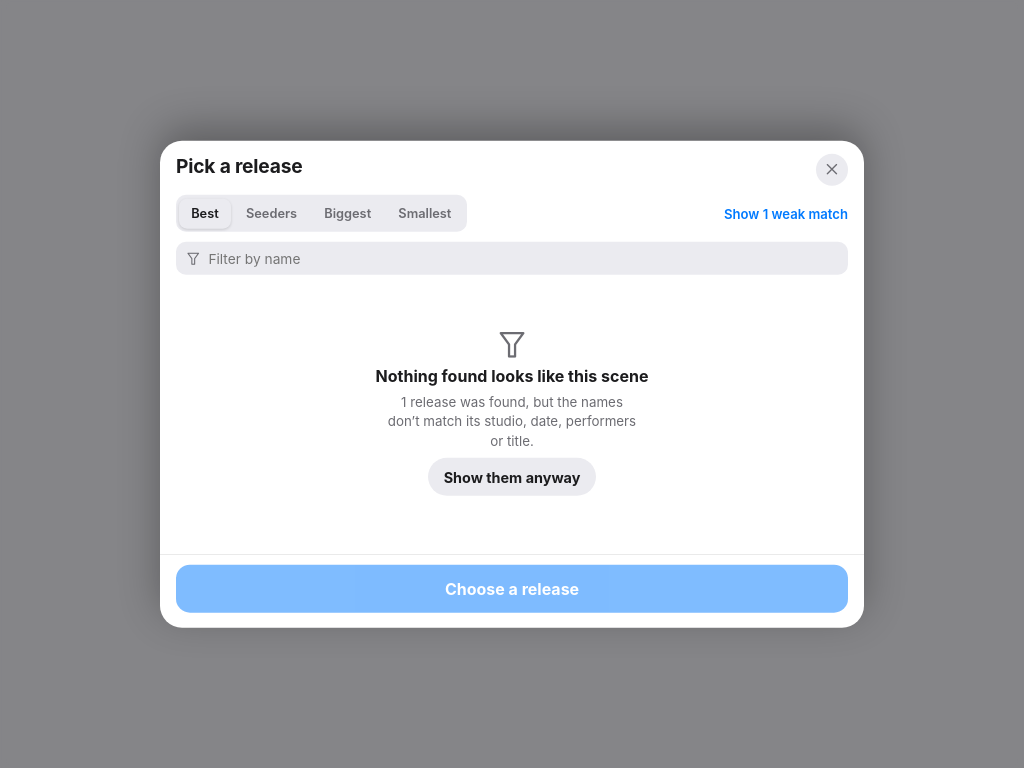
Test case: ReleasePickerComponent › says when every release looks like another scene
Click the button "Show them anyway".
click(512, 477)  # box 428,458 -> 596,496
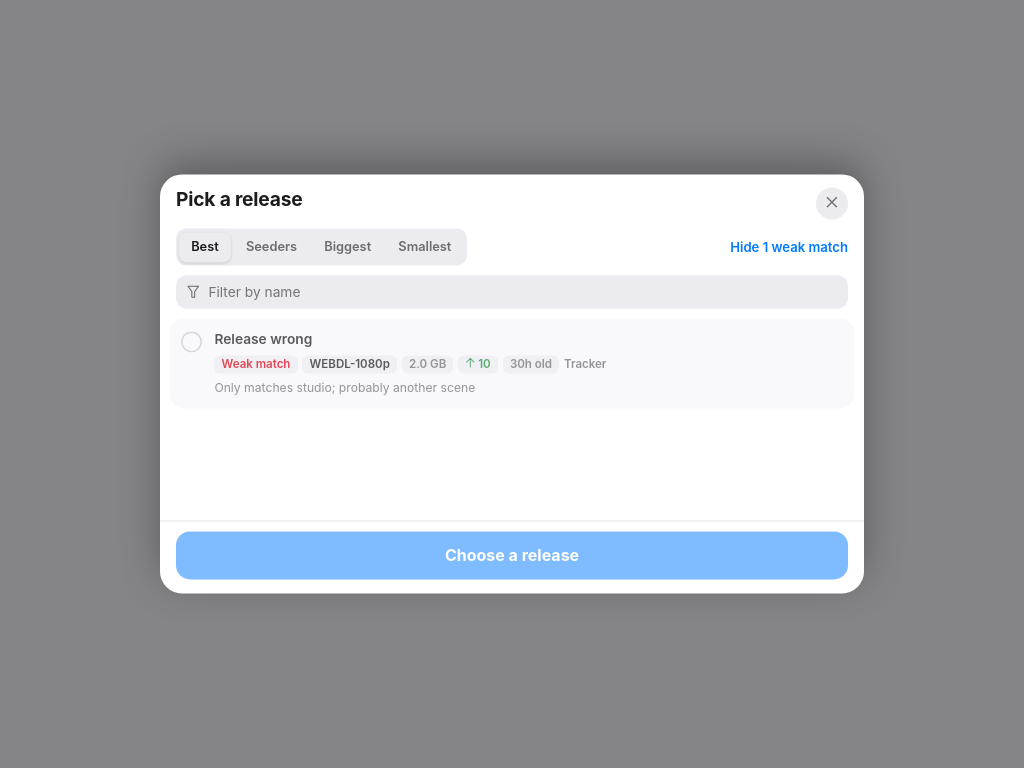
Now the text "Release wrong" is shown, box 214,331 -> 312,347
Now the text "Only matches studio; probably another scene" is shown, box 214,381 -> 475,396
